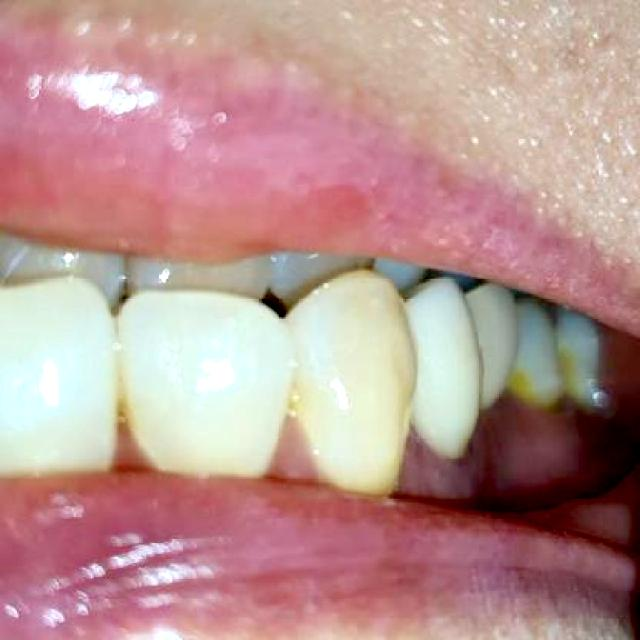Plaque: (473, 389, 595, 440)
